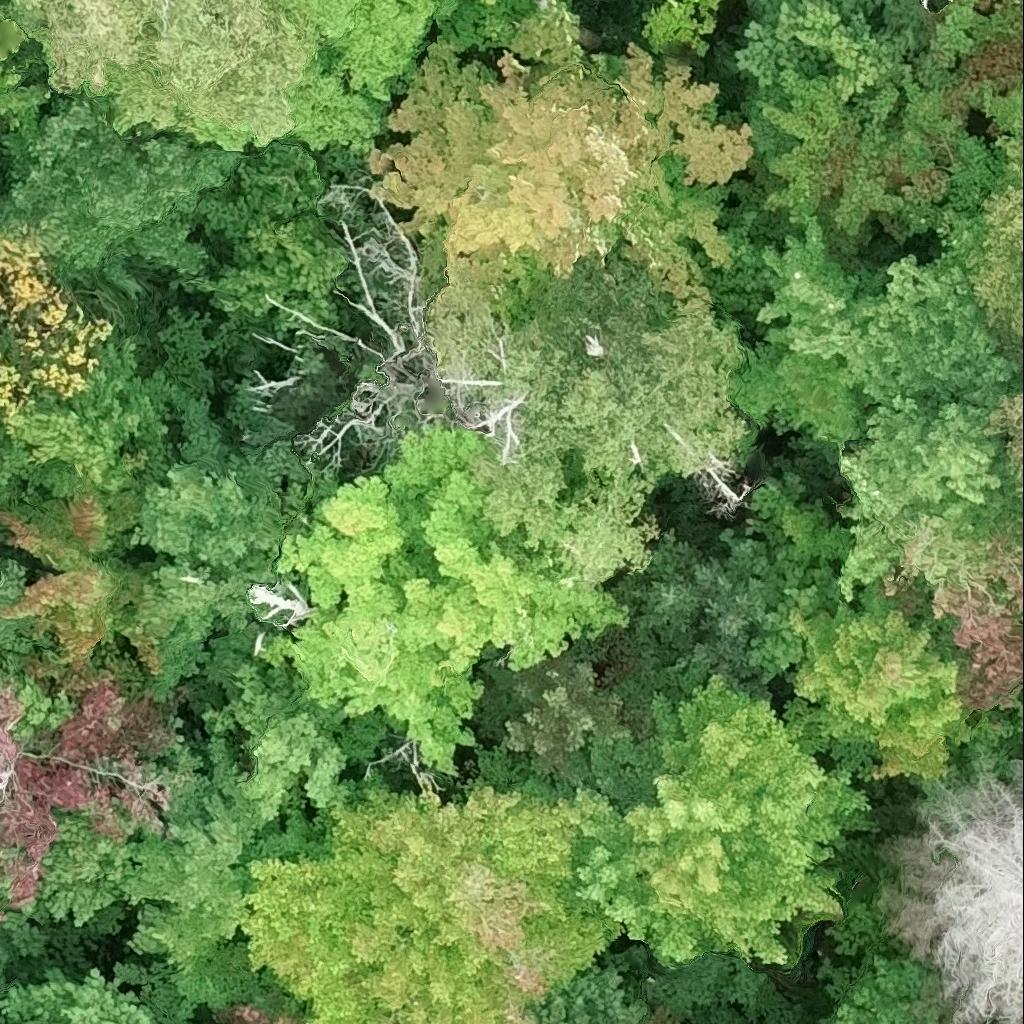crown: (363, 4, 781, 331), (260, 418, 633, 776), (231, 770, 624, 1023), (763, 229, 1023, 597), (560, 677, 875, 967), (8, 738, 324, 1016), (301, 181, 527, 474), (130, 390, 339, 700), (754, 488, 973, 778), (745, 71, 1023, 249), (0, 89, 240, 295), (0, 310, 214, 529), (178, 617, 393, 819), (185, 0, 442, 155), (735, 222, 897, 446), (875, 516, 1023, 759), (886, 762, 1023, 1023), (189, 135, 352, 336), (0, 489, 161, 692), (103, 0, 320, 147), (733, 0, 952, 137), (0, 230, 114, 414), (7, 0, 144, 98), (932, 0, 1023, 124), (184, 940, 313, 1023), (527, 944, 652, 1023), (969, 158, 1023, 333), (0, 966, 162, 1023), (367, 738, 444, 804), (645, 0, 724, 53), (248, 583, 314, 628), (997, 388, 1023, 497), (0, 0, 12, 25), (921, 0, 932, 6)
